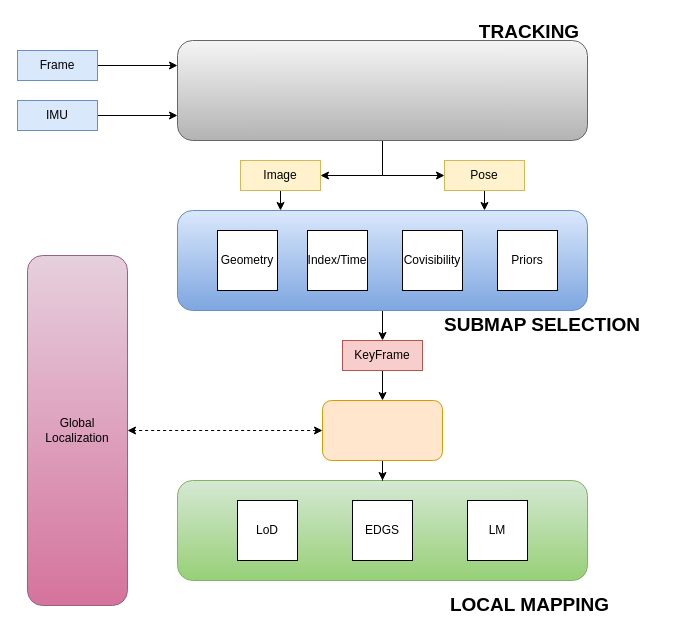
This 680x637 diagram has some shape labels left out. Each missing label, with the box of its shape:
KeyFrame Management: (322, 400, 442, 460)
OpenVINS / Independent Tracker: (176, 40, 588, 140)
